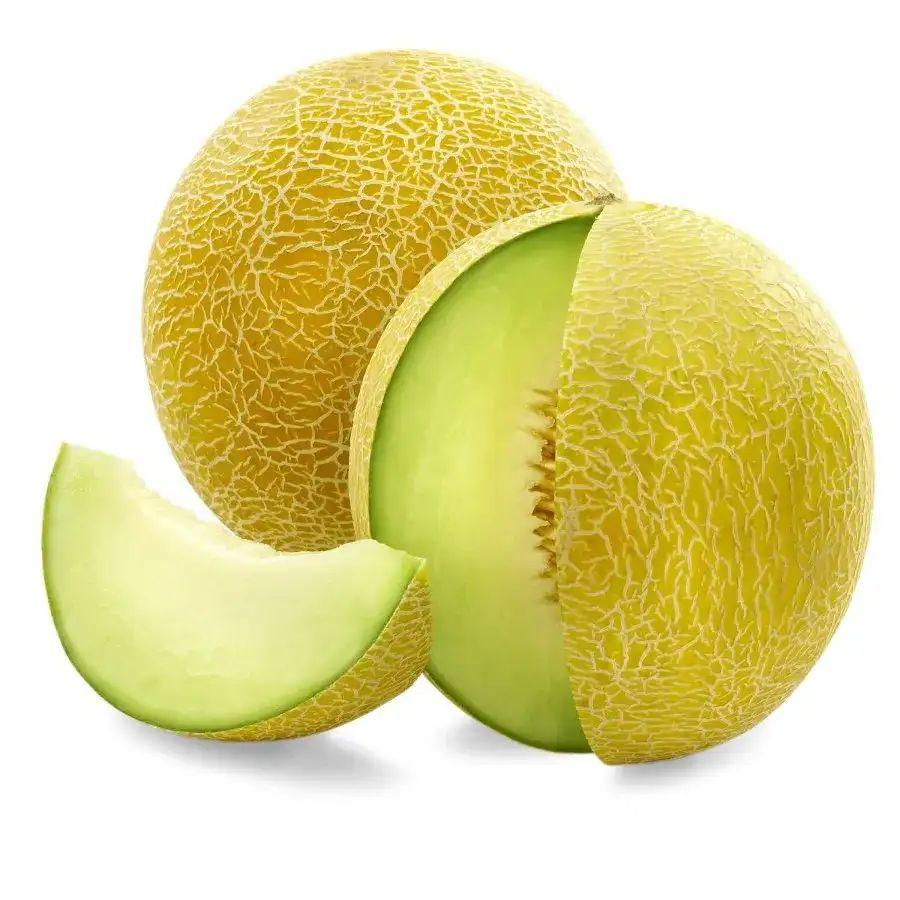Melon Unripe: (361, 191, 876, 772), (146, 48, 615, 534), (38, 433, 434, 762)
